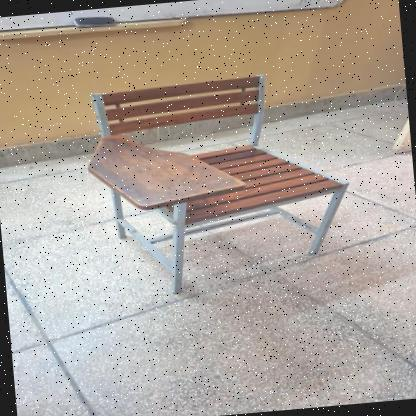chair: (84, 63, 361, 306)
